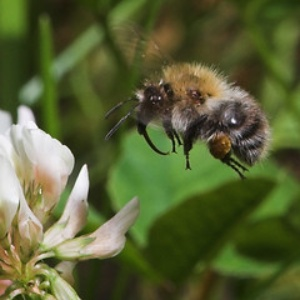bee: (104, 24, 274, 180)
